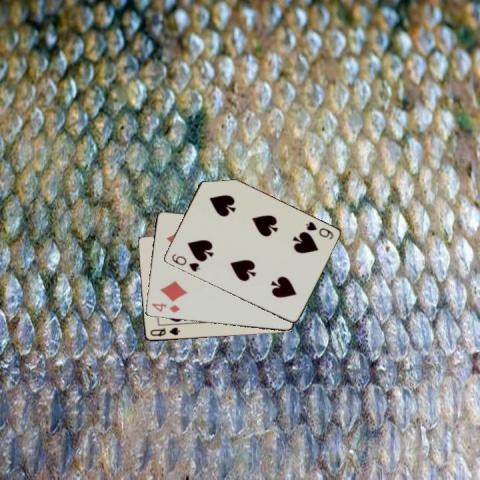4d: (148, 300, 180, 314)
6s: (168, 251, 201, 273), (302, 219, 335, 241)
Qs: (146, 325, 180, 338)
